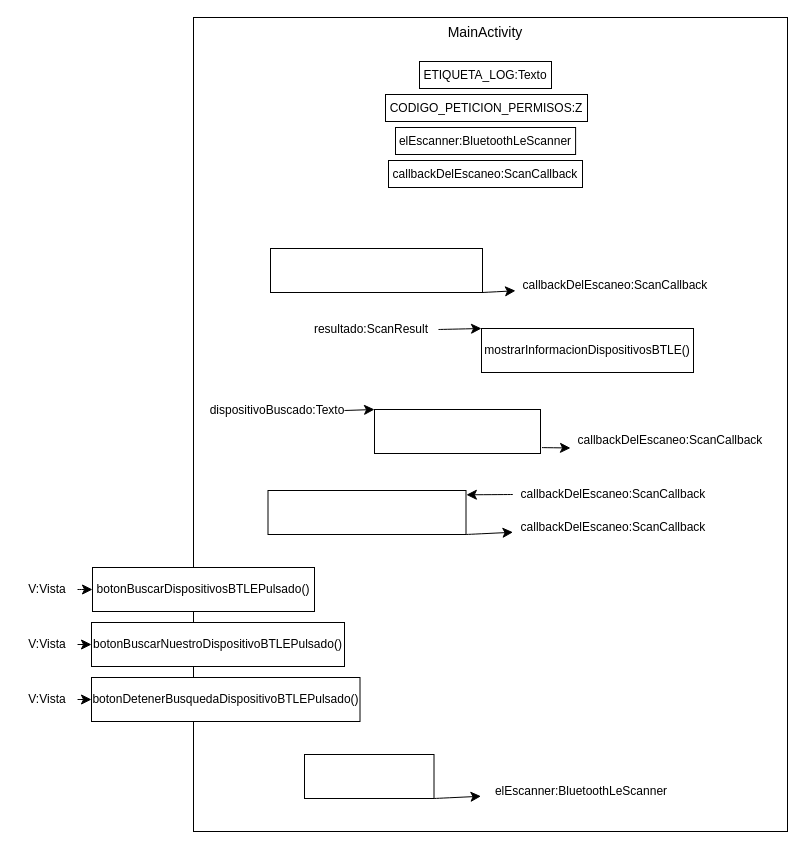
The diagram is 805 pixels wide and 849 high, and some of its shapes have lost their labels. The centre of each missing label's shape, as x and y in pixels:
"buscarEsteDispositivoBTLE()" goes at [457,431].
"buscarTodosLosDispositivosBTLE()" goes at [376,270].
"detenerBusquedaDispositivoBTLE()" goes at [366,512].
"inicializarBluetooth()" goes at [369,776].
